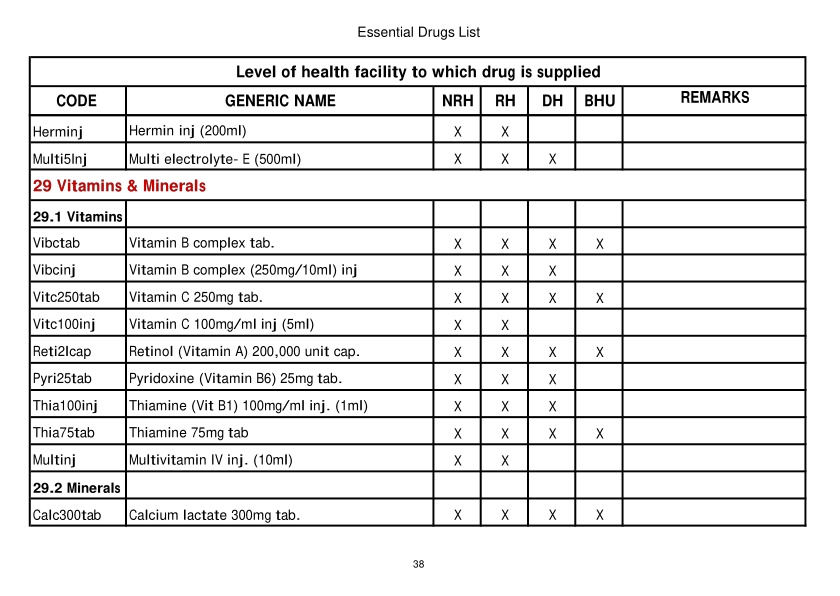merged_cells: (28, 55, 808, 528)
